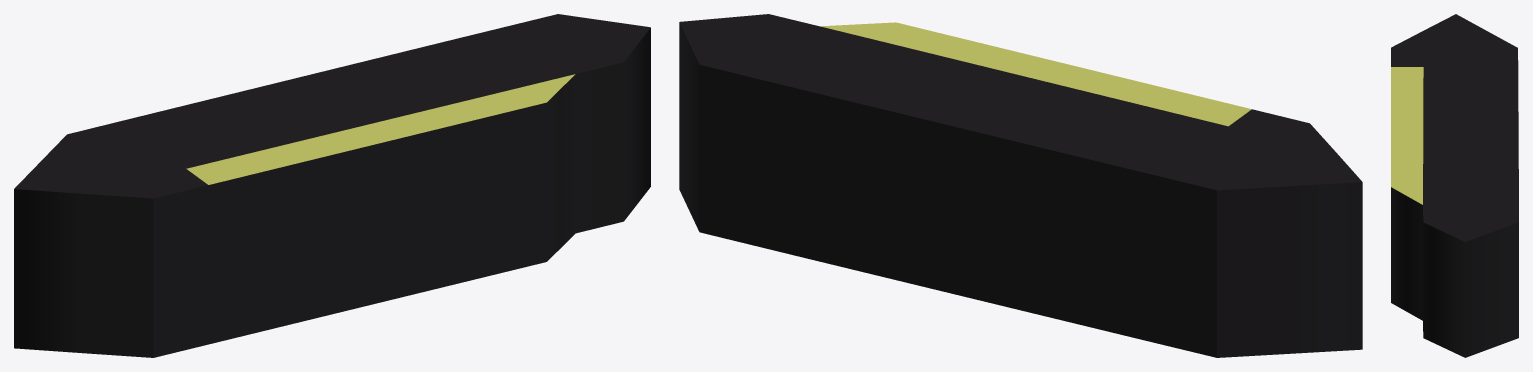
Rendered from HUD1.fbx.
3 renders of one model, left to right at view 1: azimuth 30°, elevation 25°; view 2: azimuth 150°, elevation 25°; view 3: azimuth 270°, elevation 25°, orthographic. The views are drawn at different scales.
Parts seen in each view (by area): view 1: pCube6; view 2: pCube6; view 3: pCube6.
Boxes of the visible parts, x1=… form: pCube6: x1=14, y1=14, x2=650, y2=357; pCube6: x1=679, y1=14, x2=1362, y2=357; pCube6: x1=1391, y1=14, x2=1518, y2=357.
Size of the model in its own units: 4.22 by 1 by 1.
